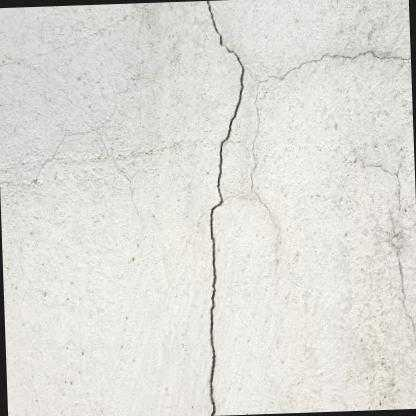crack: (204, 0, 246, 414)
